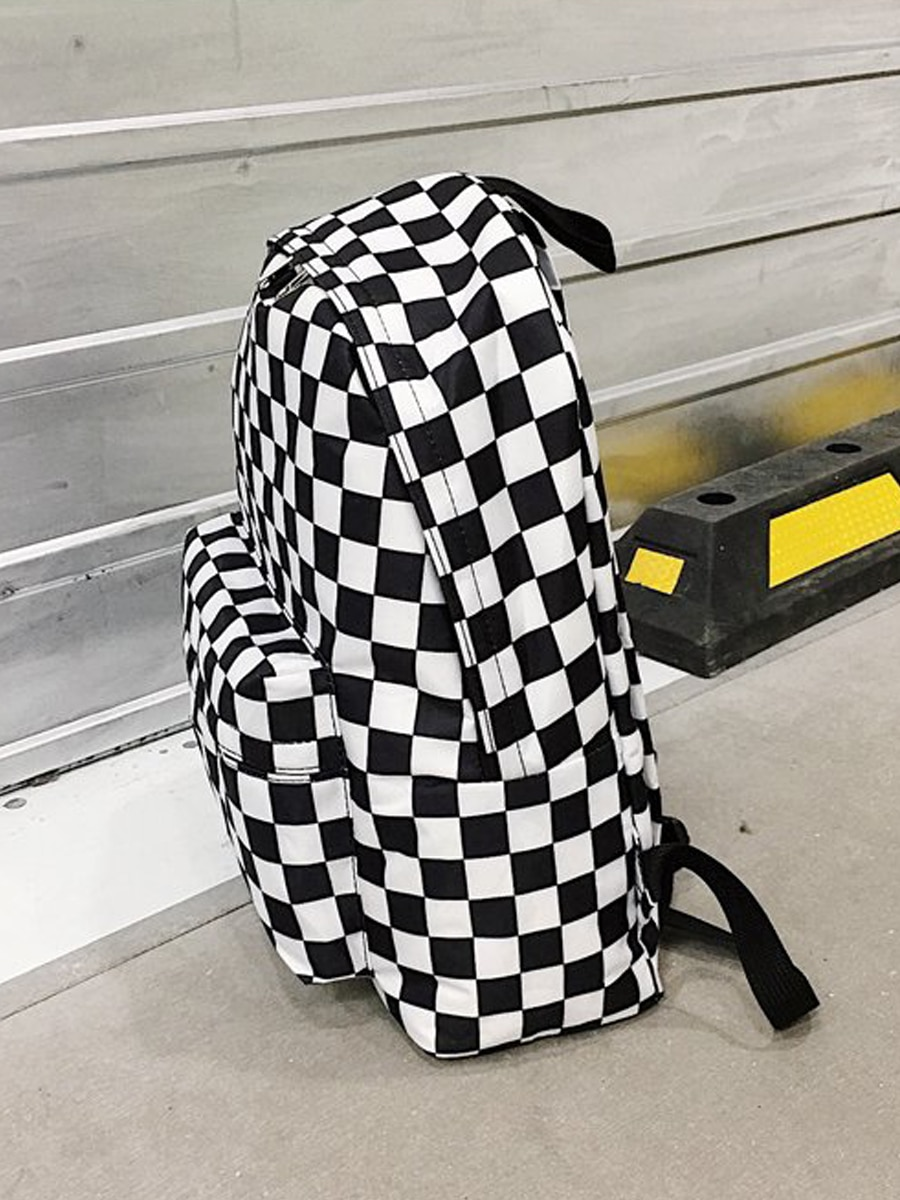Men's Backpacks: (179, 174, 830, 1065)
